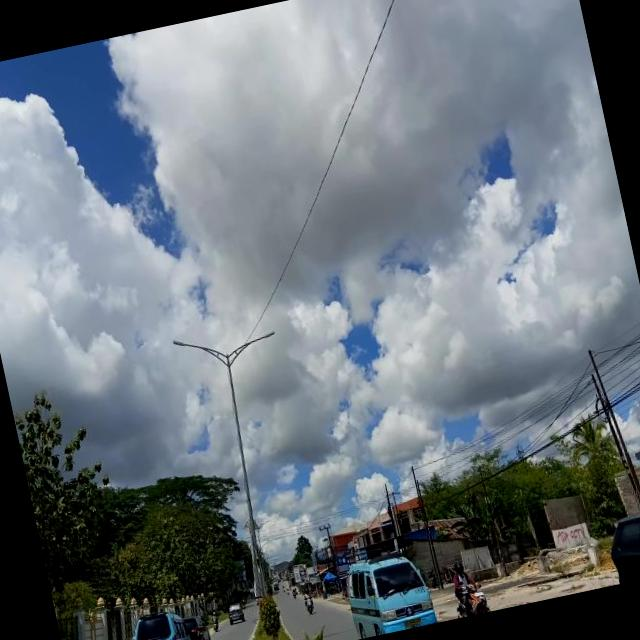cumulus: (140, 0, 640, 449), (92, 226, 228, 474), (0, 90, 104, 387), (256, 433, 407, 525)
